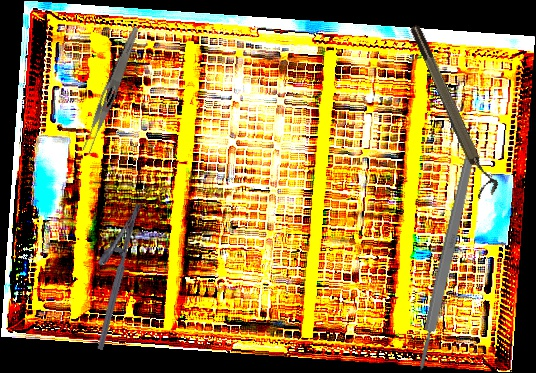Dressing Forceps: (79, 23, 142, 156)
Fixation Ring: (406, 19, 502, 201)
Needle Holder: (76, 197, 143, 351)
Scalpel Handle: (414, 146, 478, 373)
